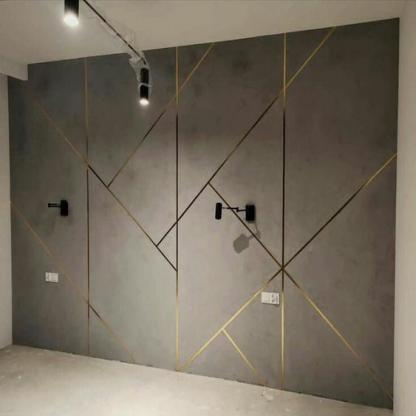Wall Panel: (6, 15, 403, 413)
